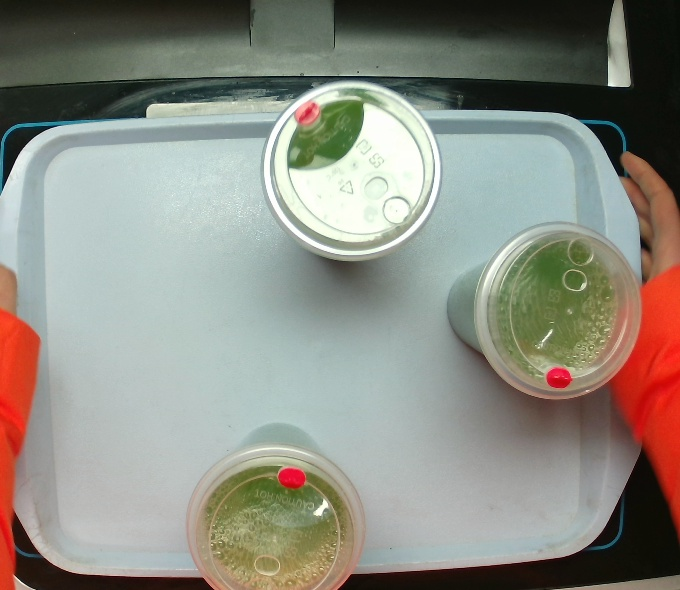wcq-HuangGuaZhi: (444, 219, 644, 402), (258, 78, 444, 264), (184, 421, 368, 590)
